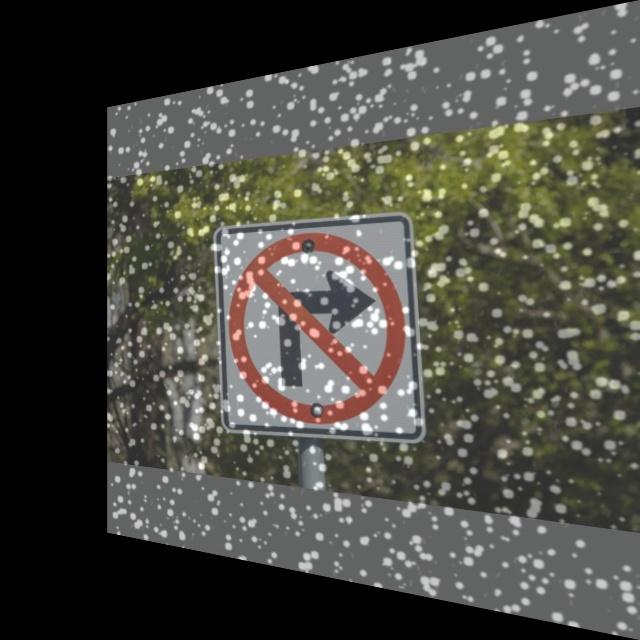Right_Turn_Prohibited: (225, 225, 413, 433)
